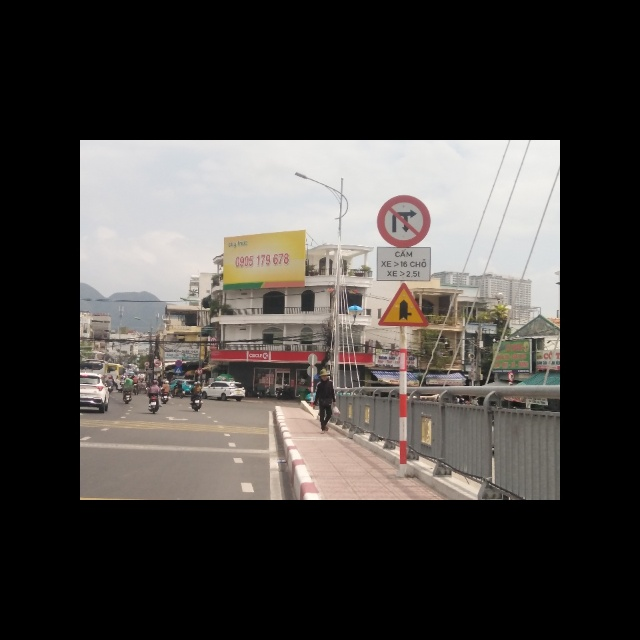Cấm quay đầu và rẽ phải: (377, 196, 430, 249)
Giao nhau với đường không ưu tiên: (378, 283, 427, 328)
